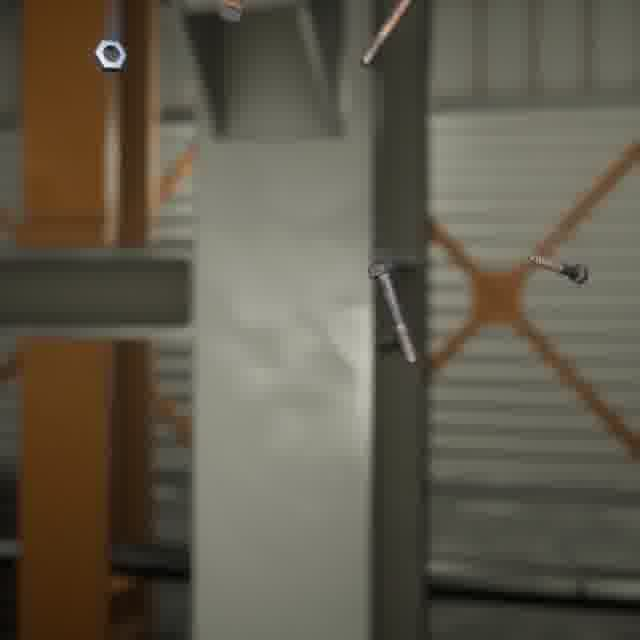bolt: (363, 256, 423, 368), (354, 0, 419, 71), (522, 250, 592, 289), (214, 0, 249, 27)
nut: (87, 35, 132, 76)
